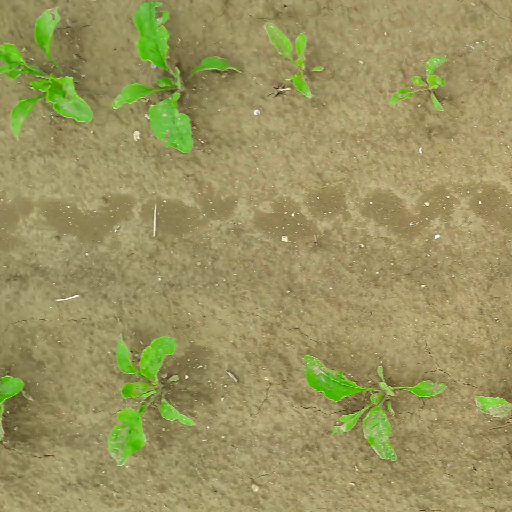sugarbeet: (109, 1, 243, 154), (303, 352, 450, 462), (104, 333, 200, 466), (1, 10, 95, 144), (263, 21, 325, 98), (385, 54, 452, 112)
